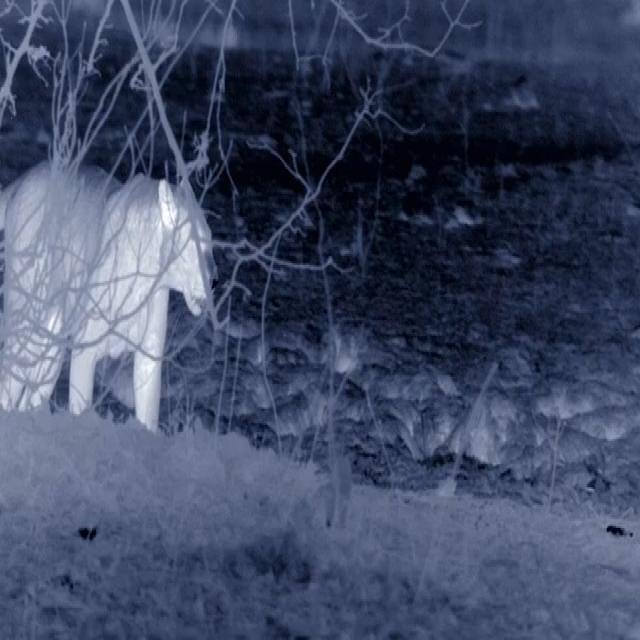animal: (0, 144, 230, 457)
